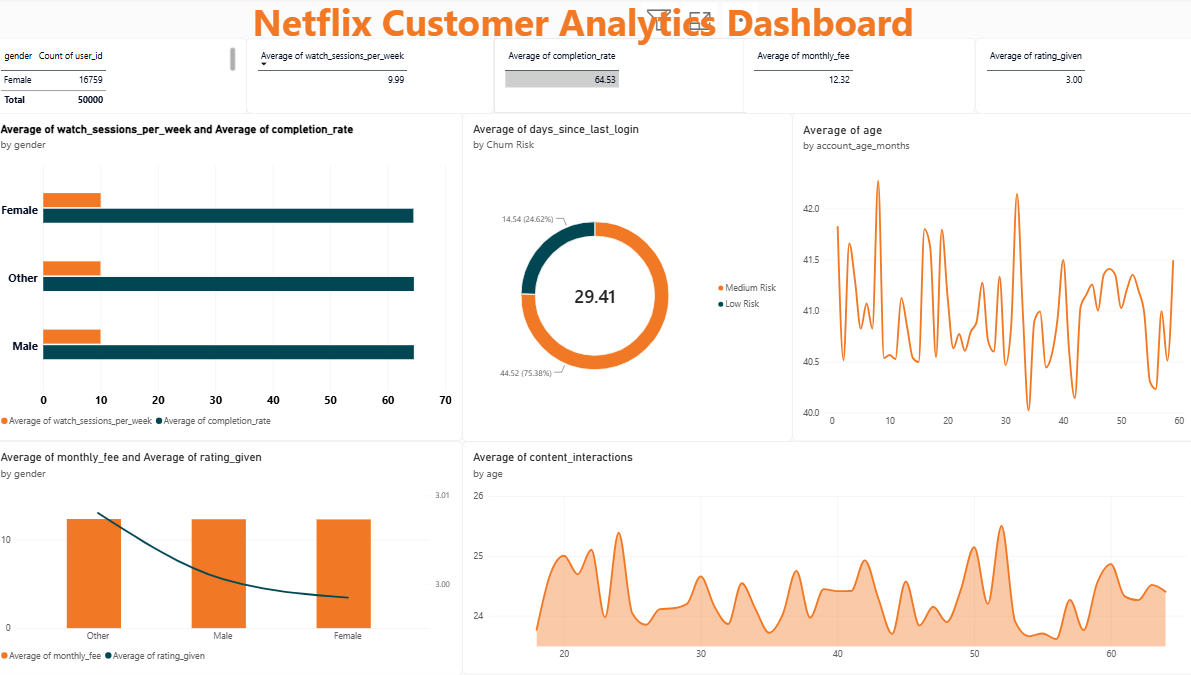

The dashboard page shown, as its layout file describes it:
{"tool":"powerbi","page":{"name":"Page 1","canvas":[1920,1080],"ordinal":0},"visuals":[{"type":"tableEx","fields":{"Values":["netflix_user_behavior_dataset.gender","netflix_user_behavior_dataset.user_id"]},"box":[0,66.8,408,128.8],"z":0},{"type":"tableEx","fields":{"Values":["Avg(netflix_user_behavior_dataset.watch_sessions_per_week)"]},"box":[408.2,66.6,393.2,120.3],"z":1000},{"type":"tableEx","fields":{"Values":["Avg(netflix_user_behavior_dataset.completion_rate)"]},"box":[801.4,66.6,423.3,120.3],"z":2000},{"type":"tableEx","fields":{"Values":["Avg(netflix_user_behavior_dataset.monthly_fee)"]},"box":[1196.8,66.6,369.6,120.3],"z":3000},{"type":"tableEx","fields":{"Values":["Avg(netflix_user_behavior_dataset.rating_given)"]},"box":[1567.5,66.8,352.4,120.3],"z":4000},{"type":"clusteredBarChart","fields":{"Category":["netflix_user_behavior_dataset.gender"],"Y":["Avg(netflix_user_behavior_dataset.watch_sessions_per_week)","Avg(netflix_user_behavior_dataset.completion_rate)"]},"box":[0,187.1,751.2,521.6],"z":5000},{"type":"donutChart","fields":{"Category":["netflix_user_behavior_dataset.Churn Risk"],"Y":["Avg(netflix_user_behavior_dataset.days_since_last_login)"]},"box":[751.6,186.1,524.9,522.5],"z":6000},{"type":"lineClusteredColumnComboChart","fields":{"Category":["netflix_user_behavior_dataset.gender"],"Y":["Avg(netflix_user_behavior_dataset.monthly_fee)"],"Y2":["Avg(netflix_user_behavior_dataset.rating_given)"]},"box":[0,708.6,751.6,372.2],"z":7000},{"type":"stackedAreaChart","fields":{"Category":["netflix_user_behavior_dataset.age"],"Y":["Avg(netflix_user_behavior_dataset.content_interactions)"]},"box":[751.8,708.6,1167.5,370.2],"z":8000},{"type":"lineChart","fields":{"Category":["netflix_user_behavior_dataset.account_age_months"],"Y":["Avg(netflix_user_behavior_dataset.age)"]},"box":[1277,187,642,522],"z":9000},{"type":"textbox","box":[100.2,0,1686.8,100.2],"z":10000}]}

Visuals, with their boxes in screenshot pixels (x1, y1, x2, y2), scaled from the page's 1920x1080 canvas onto the 1191x675 screenshot:
tableEx - netflix_user_behavior_dataset.gender x netflix_user_behavior_dataset.user_id: {"left": 0, "top": 42, "right": 253, "bottom": 122}
tableEx - Avg(netflix_user_behavior_dataset.watch_sessions_per_week): {"left": 253, "top": 42, "right": 497, "bottom": 117}
tableEx - Avg(netflix_user_behavior_dataset.completion_rate): {"left": 497, "top": 42, "right": 760, "bottom": 117}
tableEx - Avg(netflix_user_behavior_dataset.monthly_fee): {"left": 742, "top": 42, "right": 972, "bottom": 117}
tableEx - Avg(netflix_user_behavior_dataset.rating_given): {"left": 972, "top": 42, "right": 1190, "bottom": 117}
clusteredBarChart - netflix_user_behavior_dataset.gender x Avg(netflix_user_behavior_dataset.watch_sessions_per_week): {"left": 0, "top": 117, "right": 466, "bottom": 443}
donutChart - netflix_user_behavior_dataset.Churn Risk x Avg(netflix_user_behavior_dataset.days_since_last_login): {"left": 466, "top": 116, "right": 792, "bottom": 443}
lineClusteredColumnComboChart - netflix_user_behavior_dataset.gender x Avg(netflix_user_behavior_dataset.monthly_fee): {"left": 0, "top": 443, "right": 466, "bottom": 674}
stackedAreaChart - netflix_user_behavior_dataset.age x Avg(netflix_user_behavior_dataset.content_interactions): {"left": 466, "top": 443, "right": 1190, "bottom": 674}
lineChart - netflix_user_behavior_dataset.account_age_months x Avg(netflix_user_behavior_dataset.age): {"left": 792, "top": 117, "right": 1190, "bottom": 443}
textbox: {"left": 62, "top": 0, "right": 1108, "bottom": 63}
